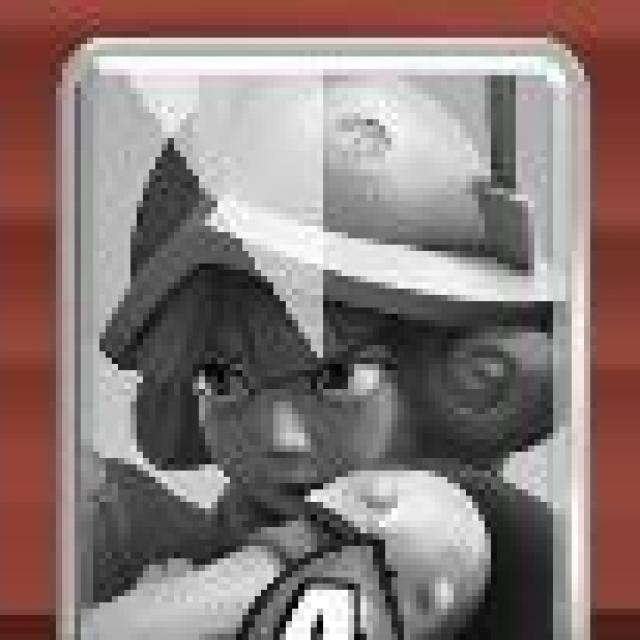Musketeer: (65, 49, 584, 640)
